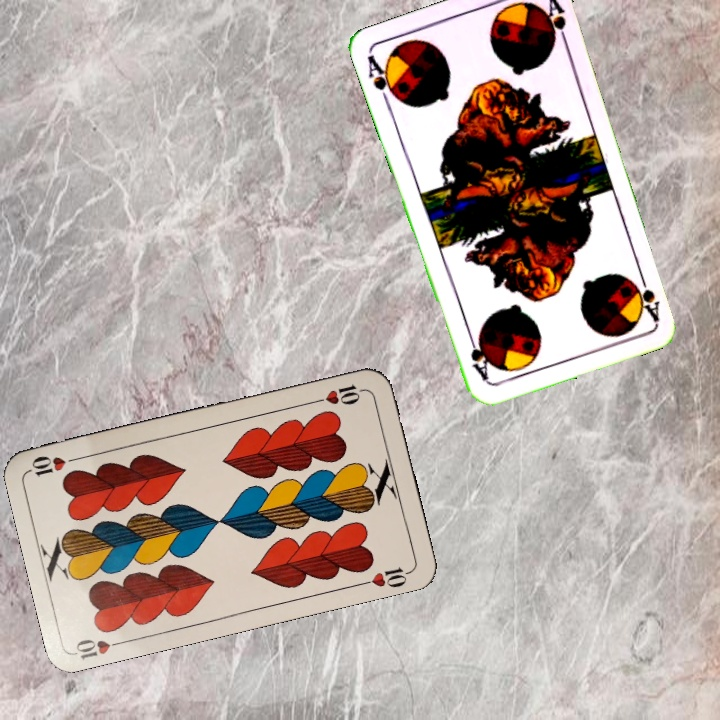H10: (309, 379, 368, 407), (71, 635, 130, 662)
SA: (363, 51, 402, 109), (634, 265, 663, 323)
